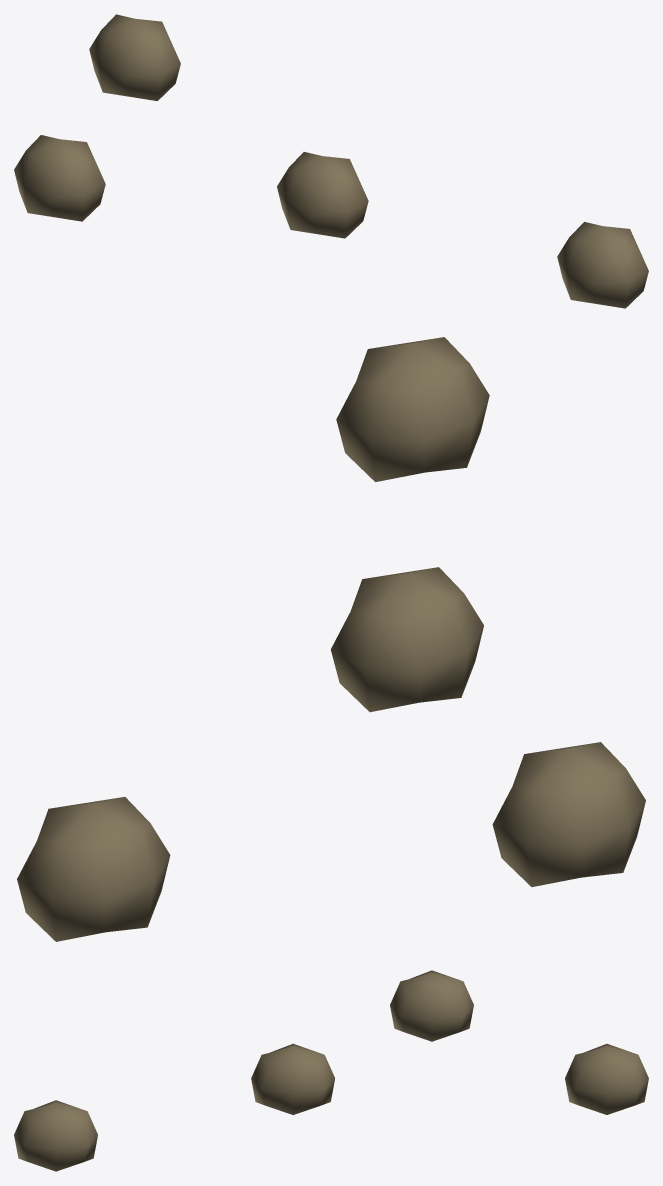
Rendered from fallenCoconuts.fbx.
3 renders of one model, top to bottom at view 1: azimuth 30°, elevation 25°; view 2: azimuth 150°, elevation 25°; view 3: azimuth 270°, elevation 25°, orthographic. The views are drawn at different scales.
Parts seen in each view (by area): view 1: fallenCoconuts1; view 2: fallenCoconuts1; view 3: fallenCoconuts1.
Part boxes in pixels (x1,y1,x2,y2): fallenCoconuts1: (14,14,648,308); fallenCoconuts1: (17,337,645,941); fallenCoconuts1: (14,970,648,1171).
Bounding box in the file's own units: 1.54 × 0.2842 × 2.59.
